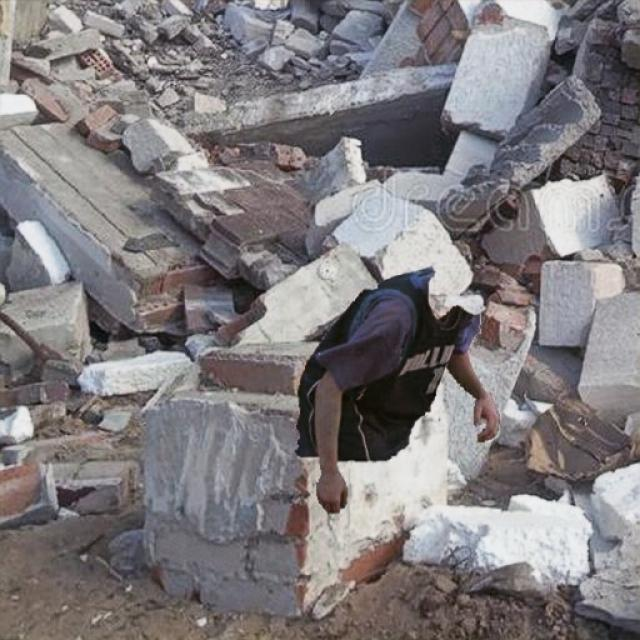Person in Rubble: (295, 265, 499, 514)
